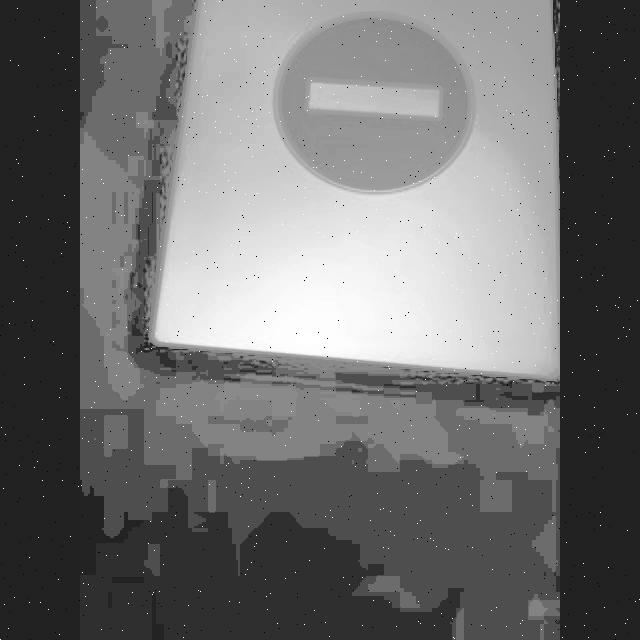NO ENTRY: (274, 12, 473, 188)
